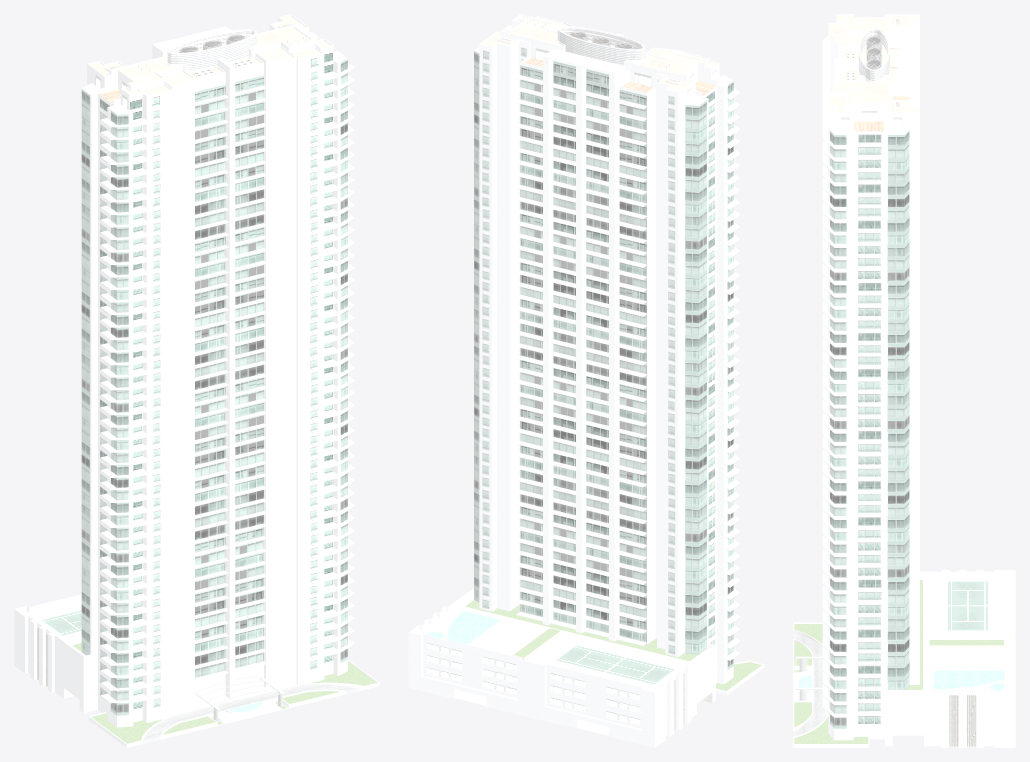
The model's file is hirise8.FBX.
3 views of the same model, side by side, from view 1: azimuth 30°, elevation 25°; view 2: azimuth 150°, elevation 25°; view 3: azimuth 270°, elevation 25° (orthographic). The views are drawn at different scales.
Visible parts, largest first — view 1: hirise8; view 2: hirise8; view 3: hirise8.
Boxes of the visible parts, x1=… form: hirise8: x1=14, y1=14, x2=379, y2=747; hirise8: x1=408, y1=14, x2=764, y2=747; hirise8: x1=793, y1=14, x2=1015, y2=747.
Size of the model in its own units: 6666 by 16249 by 5130.
1 material, 1 textured.
